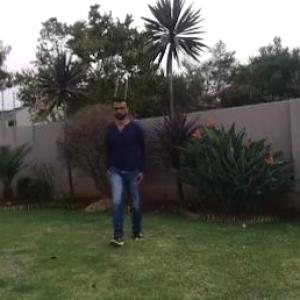follow: (106, 100, 145, 237)
